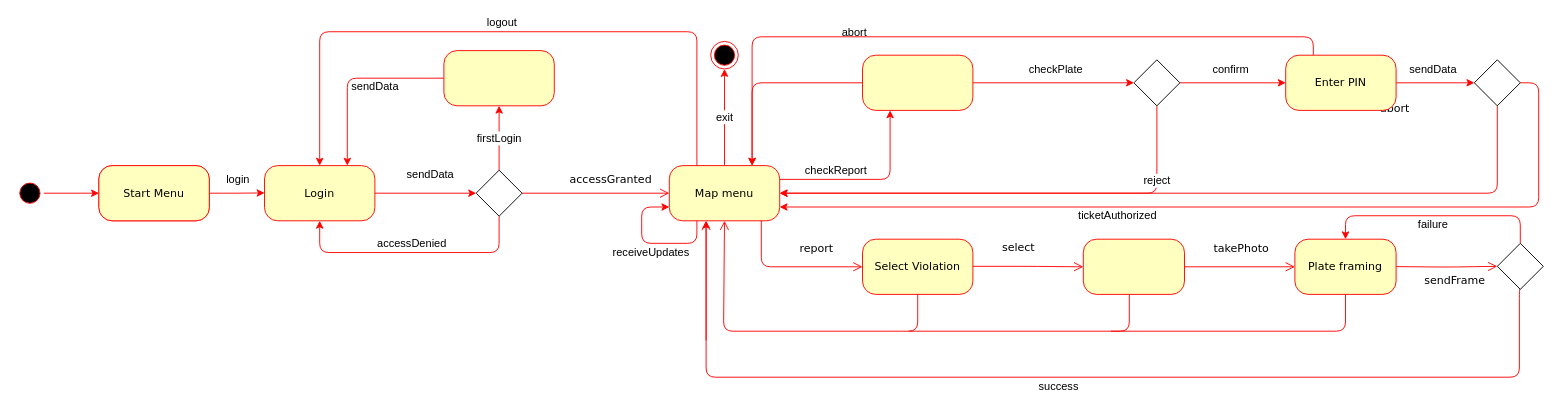
This 1562x408 diagram has some shape labels left out. The centre of each missing label's shape, as x and y in pixels:
"Choose PIN" belongs at (x=498, y=78).
"Near report" belongs at (x=917, y=82).
"Open camera" belongs at (x=1133, y=266).
